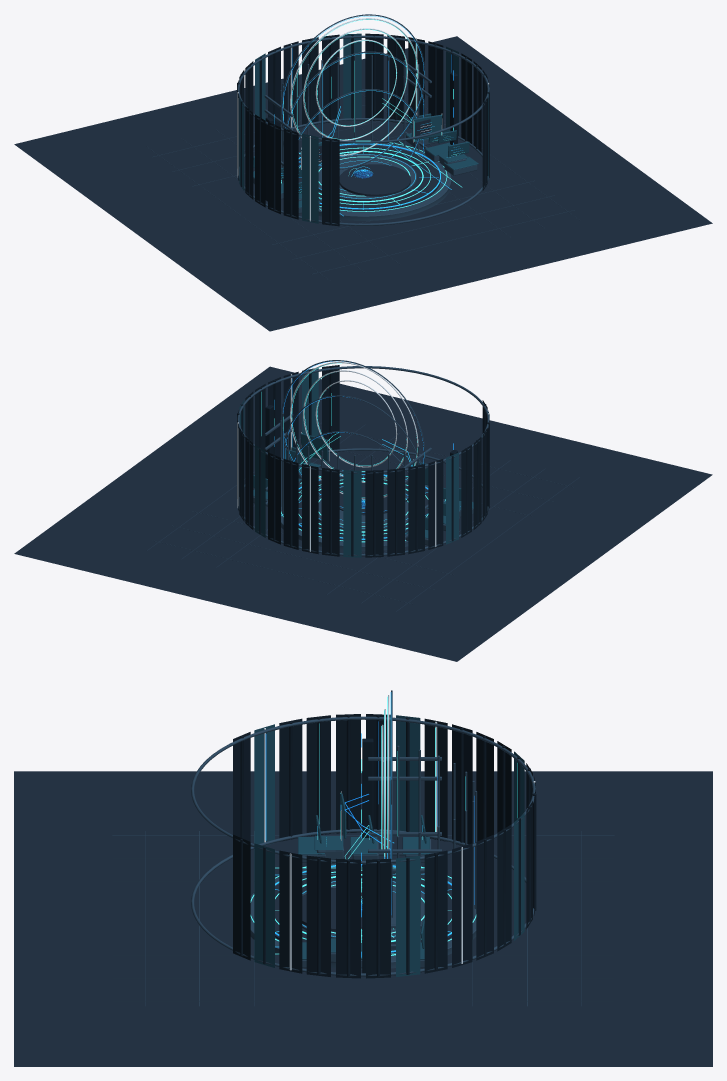
Rendered from hero-lab-structure-r17.glb.
3 renders of one model, top to bottom at view 1: azimuth 30°, elevation 25°; view 2: azimuth 150°, elevation 25°; view 3: azimuth 270°, elevation 25°, orthographic. The views are drawn at different scales.
Visible parts, largest first — view 1: Nex Labs chamber architecture · material batches; view 2: Nex Labs chamber architecture · material batches; view 3: Nex Labs chamber architecture · material batches.
Part boxes in pixels (box(x1,y1,x2,y2)): Nex Labs chamber architecture · material batches: box(14, 14, 712, 331); Nex Labs chamber architecture · material batches: box(14, 360, 712, 661); Nex Labs chamber architecture · material batches: box(14, 690, 712, 1066).
Size of the model in its own units: 32 by 15 by 32.
